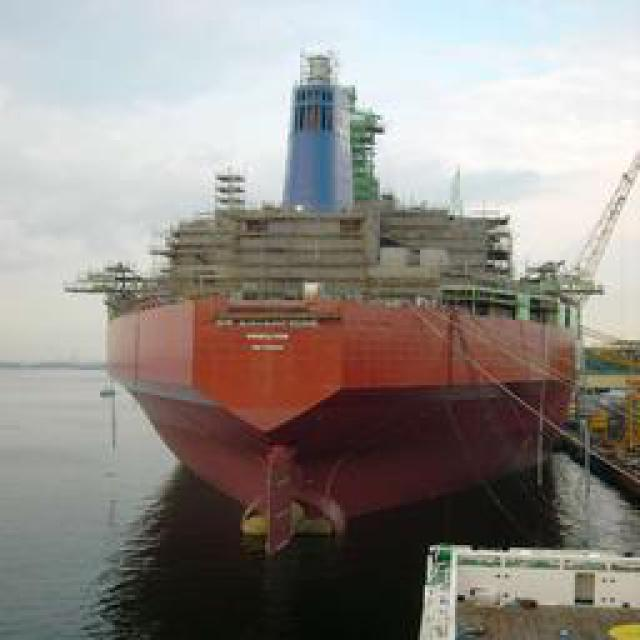Ship: (94, 50, 591, 547)
